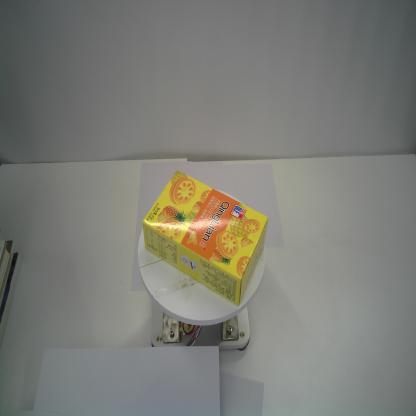Dessert: (143, 170, 270, 305)
